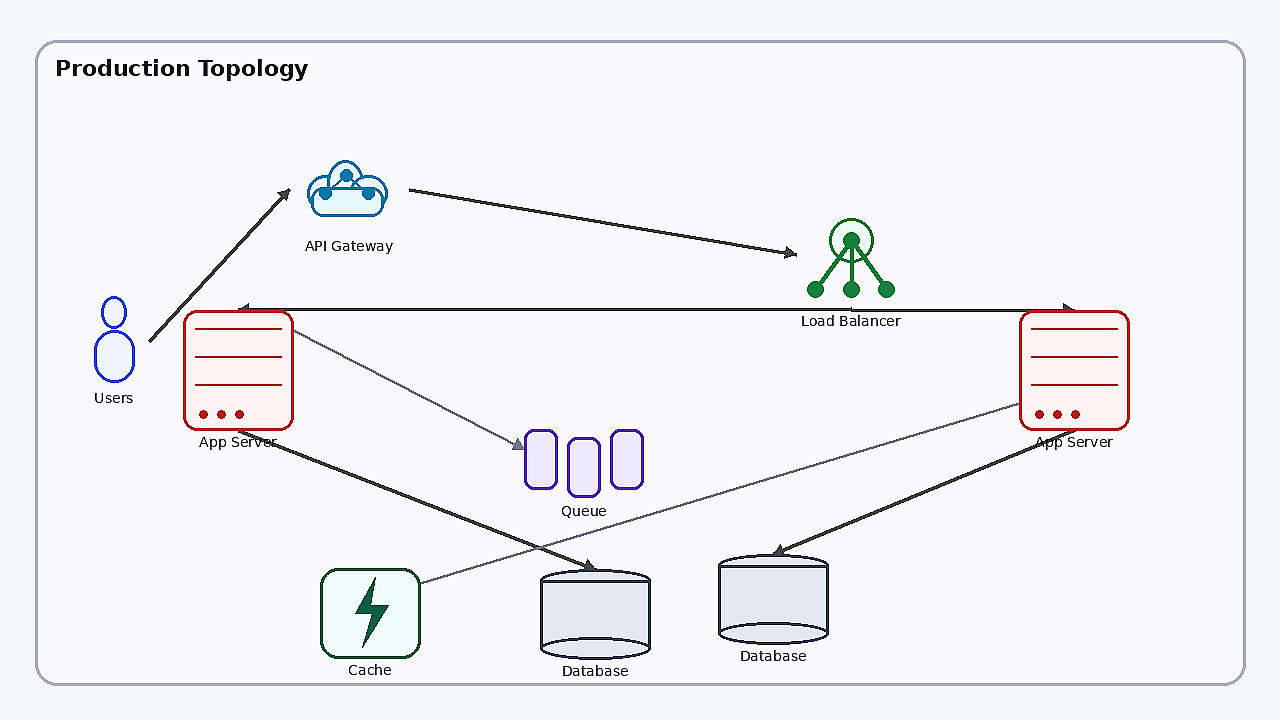API Gateway: (289, 144, 409, 234)
Application Server: (183, 310, 293, 430), (1019, 310, 1129, 430)
Cache: (320, 568, 420, 658)
Database: (540, 569, 650, 659), (718, 554, 828, 644)
Load Balancer: (796, 199, 906, 309)
Message Queue: (524, 429, 644, 499)
User: (79, 296, 149, 386)
